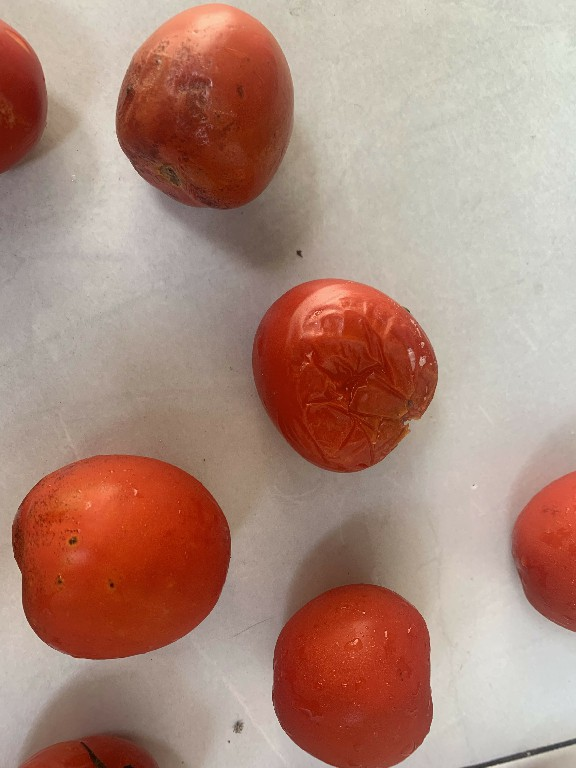NG: (3, 439, 245, 661), (231, 266, 452, 483), (109, 0, 299, 217)
OK: (265, 572, 444, 768)
